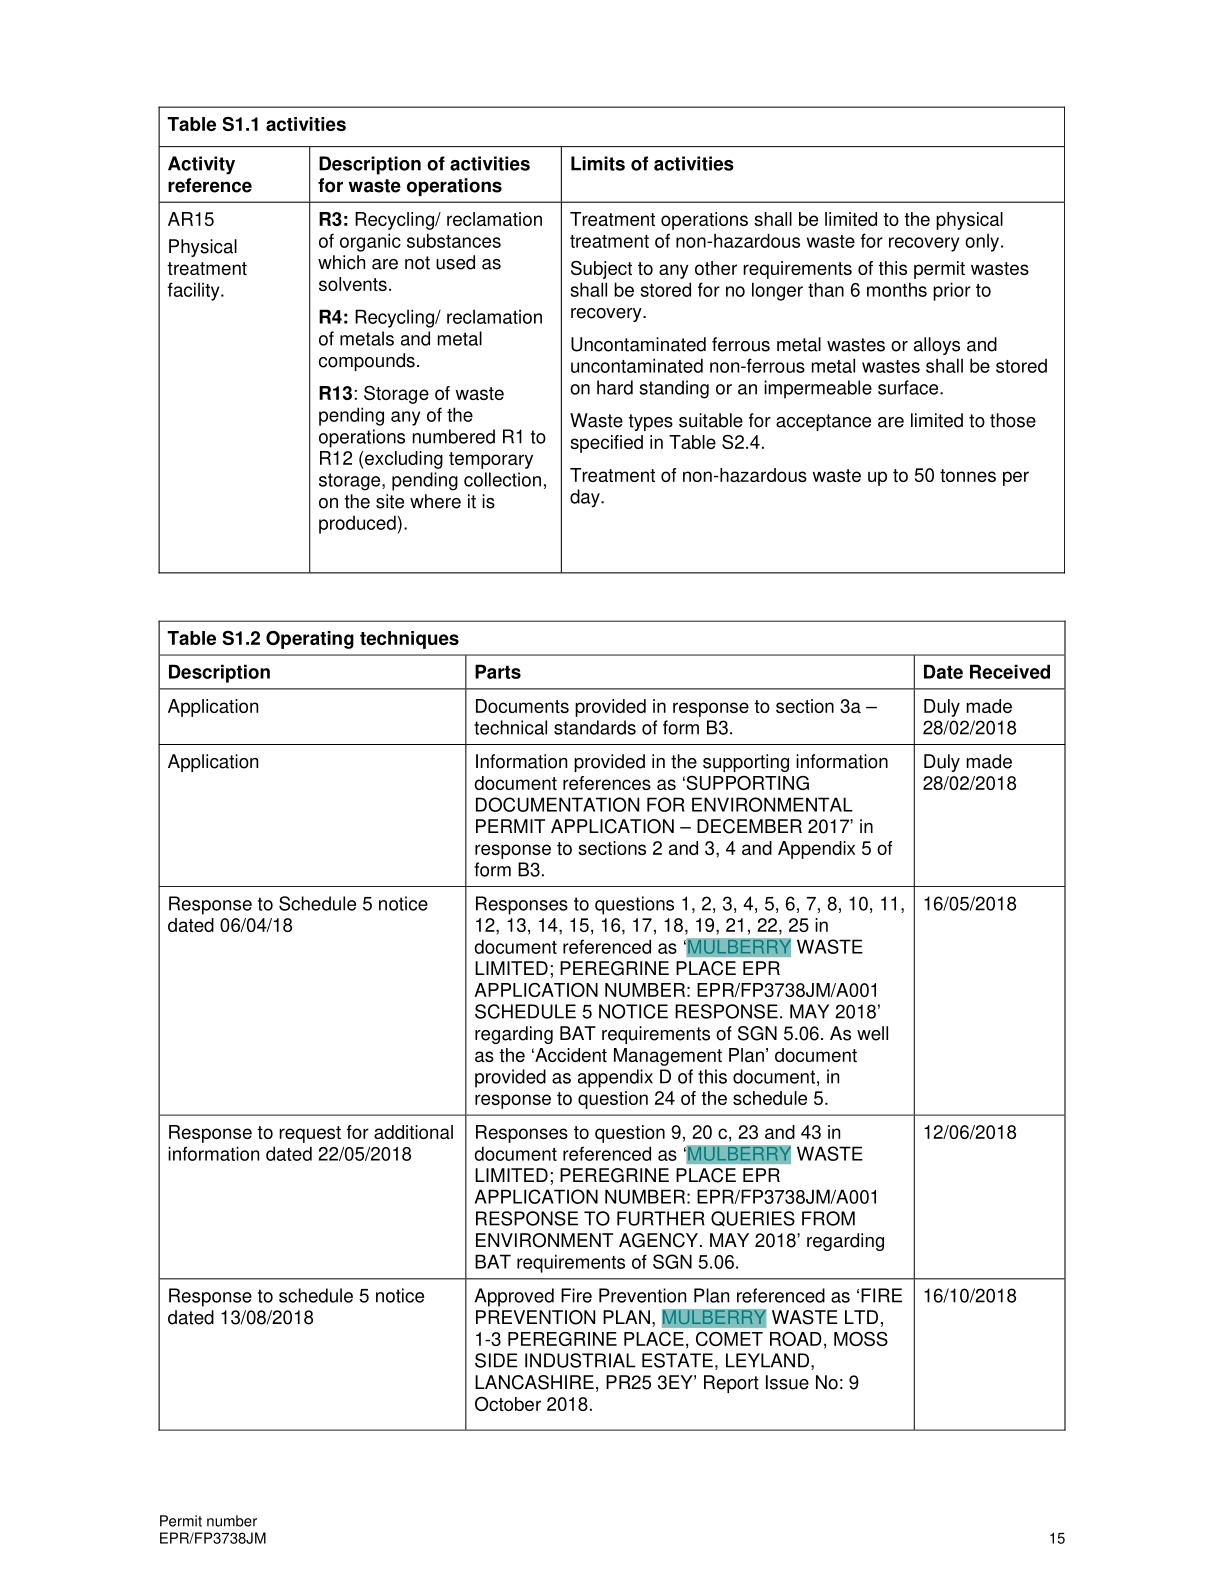merged_cells: (157, 618, 1066, 1432), (157, 105, 1065, 575)
